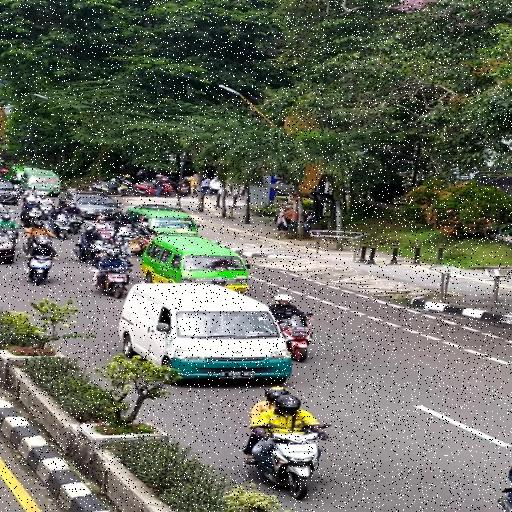Helmet: (276, 395, 301, 414), (265, 387, 289, 402), (275, 294, 292, 303), (36, 237, 51, 247), (106, 249, 120, 259), (212, 277, 227, 286), (84, 224, 95, 233), (34, 220, 44, 229), (115, 235, 123, 244), (1, 214, 11, 221), (26, 196, 35, 203), (140, 221, 149, 228), (96, 216, 106, 222), (40, 192, 48, 198), (29, 185, 36, 191), (68, 202, 76, 207), (110, 178, 117, 182), (156, 174, 163, 178), (124, 175, 130, 179), (116, 175, 122, 179)
Motor: (264, 430, 320, 499), (280, 313, 312, 362), (101, 268, 129, 299), (72, 241, 106, 262), (28, 256, 52, 285), (128, 234, 155, 255), (94, 216, 114, 242), (52, 213, 71, 239), (88, 181, 118, 195), (21, 208, 42, 227), (133, 182, 155, 195), (40, 202, 54, 221), (69, 216, 83, 234), (5, 228, 19, 244), (497, 497, 511, 511)
